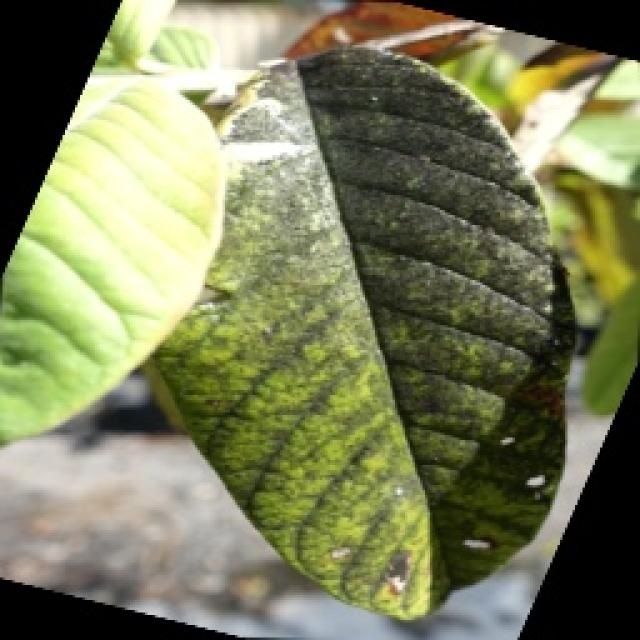Sooty Mold: (138, 40, 578, 622)
